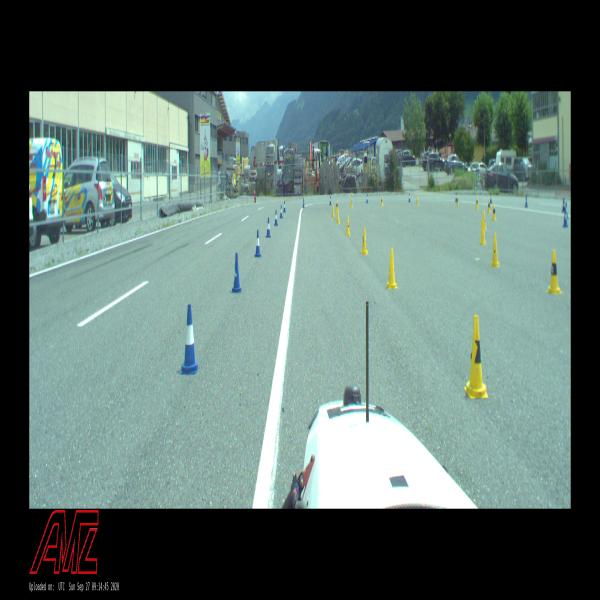blue_cone: (180, 305, 198, 373), (232, 253, 242, 293), (255, 230, 261, 257), (266, 218, 270, 237), (274, 210, 278, 226), (564, 211, 568, 226), (562, 198, 566, 212), (565, 203, 568, 218), (525, 196, 528, 207), (283, 201, 286, 212), (366, 194, 369, 203), (329, 195, 332, 204), (280, 205, 282, 218), (455, 192, 457, 202), (408, 193, 410, 202), (303, 198, 304, 208)
yellow_cone: (465, 316, 488, 399), (548, 250, 560, 294), (387, 248, 397, 289), (490, 233, 499, 267), (361, 227, 368, 254), (479, 222, 485, 245), (346, 216, 350, 236), (482, 210, 486, 230), (492, 203, 496, 220), (336, 208, 340, 224), (475, 196, 479, 209), (487, 200, 491, 212), (332, 204, 335, 217), (336, 200, 339, 212), (456, 195, 459, 206), (350, 198, 353, 208), (381, 196, 383, 206), (416, 196, 418, 204)
